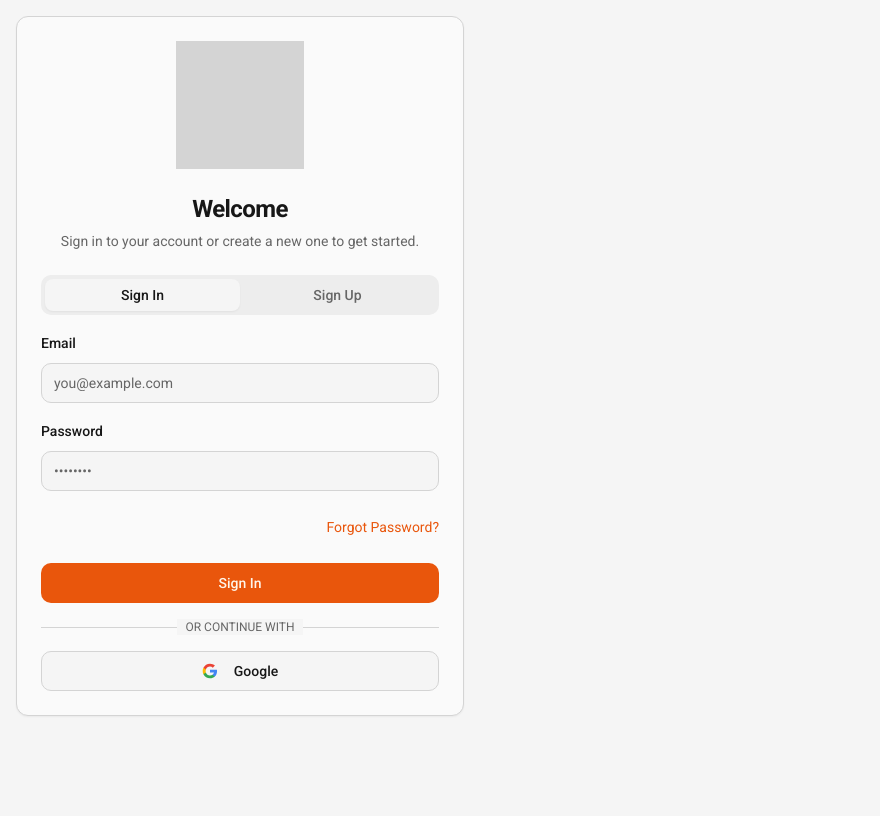
User Journey Integration › Phase 1: Registration › user can sign up with email and password
// Click the Sign Up tab
Click the tab "Sign Up" at (338, 295), box [240, 279, 435, 311]
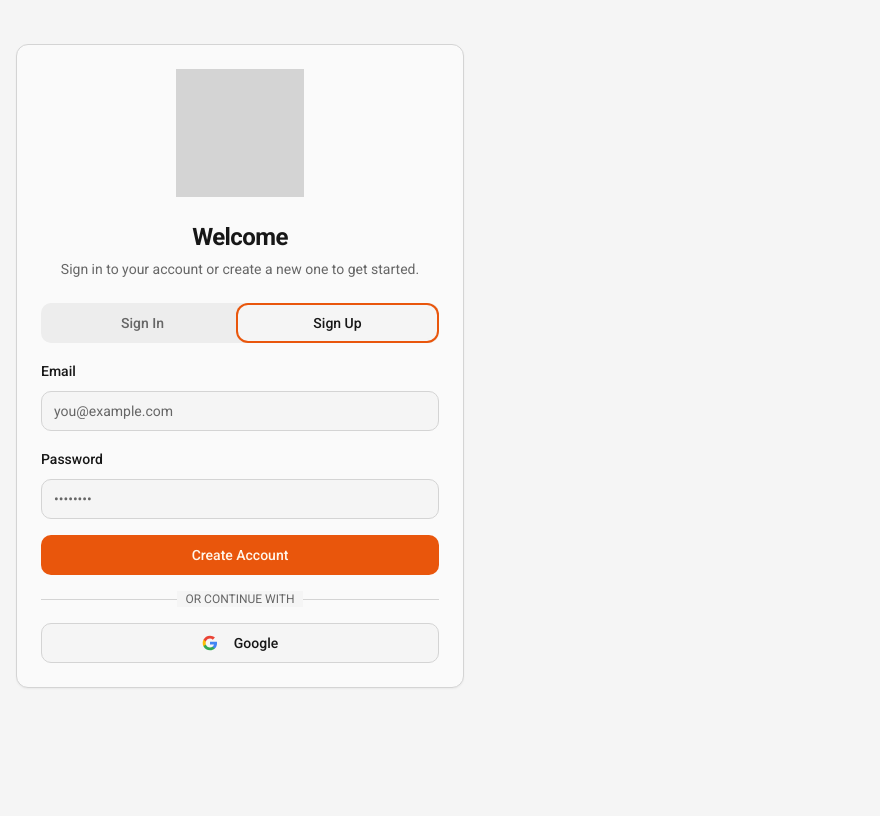
Type "newuser@test.com" into the field with id "signup-email" at (240, 411), box [41, 391, 439, 431]
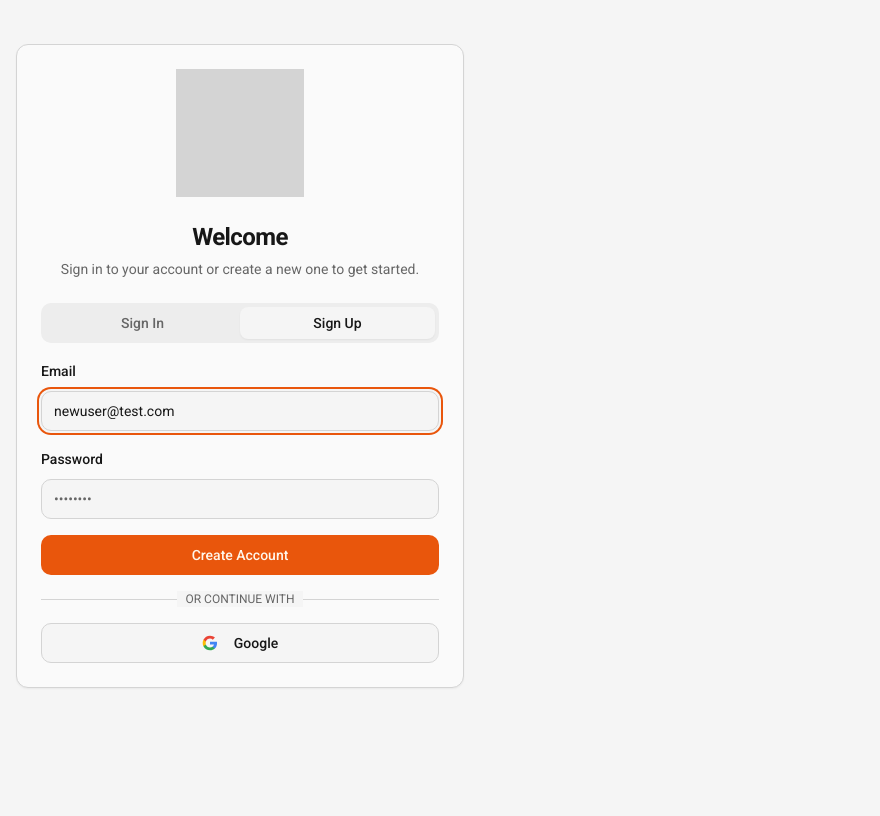
Type "SecurePass123" into the password field with id "signup-password" at (240, 499), box [41, 479, 439, 519]
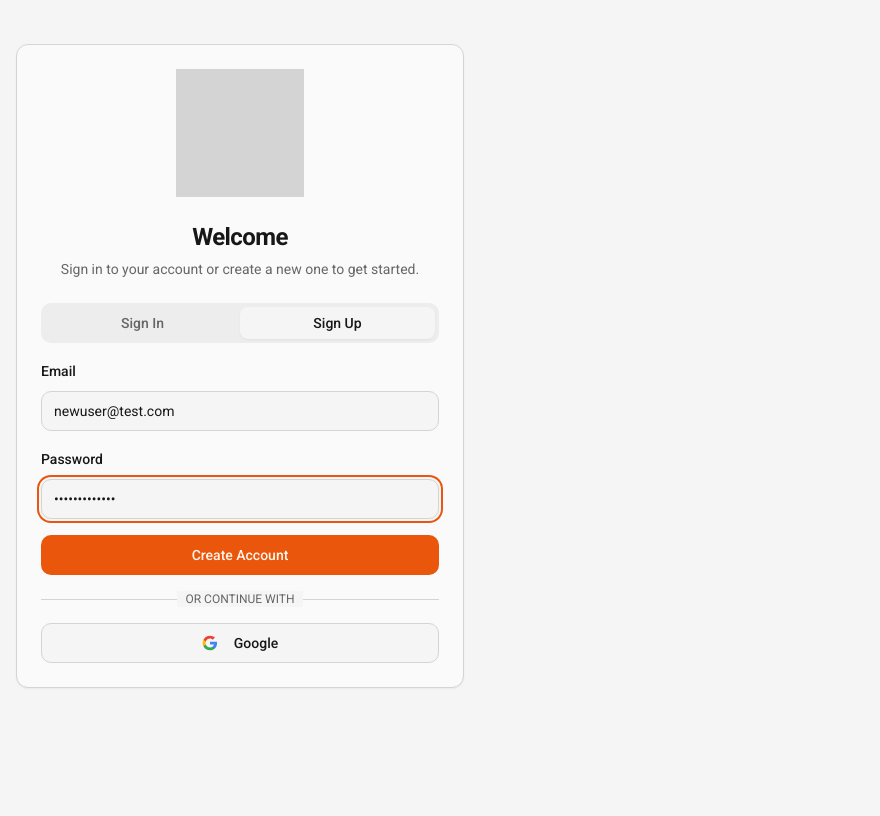
Click the button "Create Account" at (240, 555), box [41, 535, 439, 575]
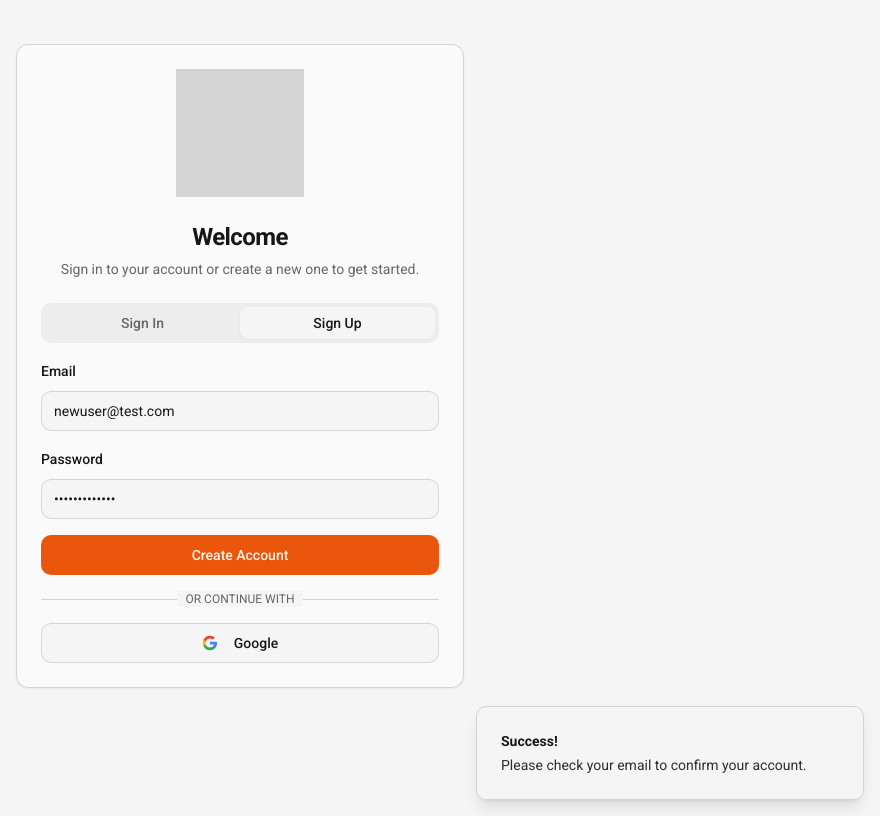
Now the text "Please check your email to confirm your account." is shown, box [501, 755, 806, 775]
